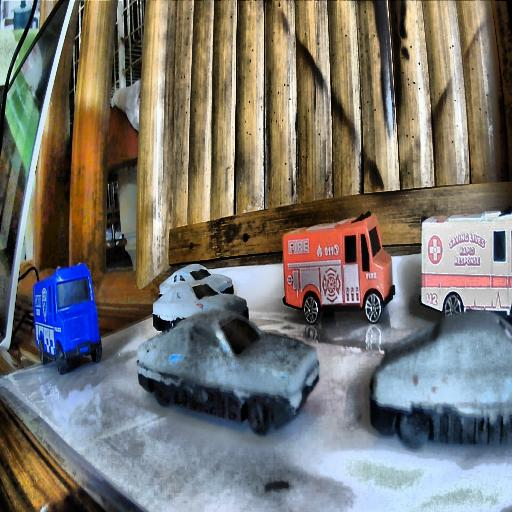ambulance: (417, 204, 509, 322)
fire_truck: (281, 209, 391, 323)
normal_car: (139, 306, 312, 437), (368, 305, 509, 451), (152, 264, 240, 332)
police car: (34, 263, 102, 373)
